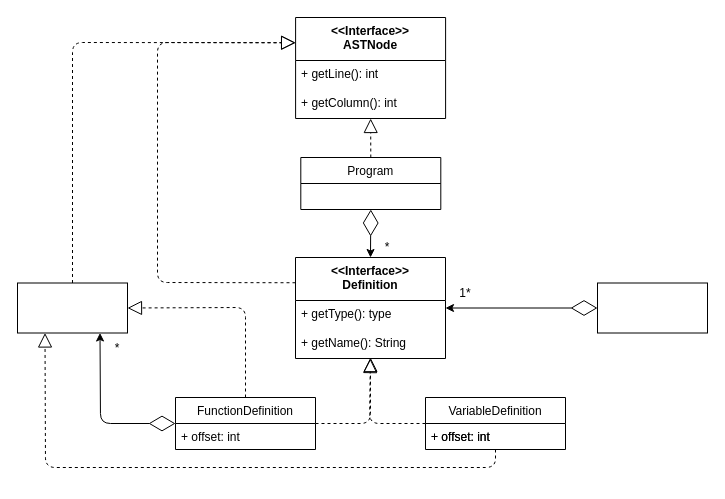
Image size: 725x499. Some labels were removed from this diagram. Here are the shapes that lost their labels. From the top down, the centre of each, then its label:
At pixel 72 307: "«interface» Statement".
At pixel 652 307: "«interface» Type".
